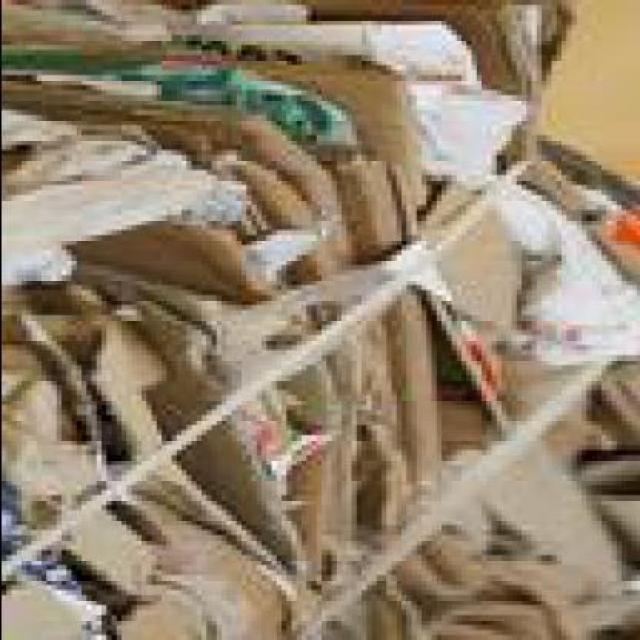cardboard: (3, 4, 638, 640), (5, 20, 586, 638), (4, 6, 564, 431), (4, 90, 376, 638), (5, 266, 320, 611), (4, 360, 296, 638), (5, 300, 280, 585), (376, 450, 638, 638), (509, 3, 638, 286), (536, 364, 638, 562), (326, 6, 546, 96)
